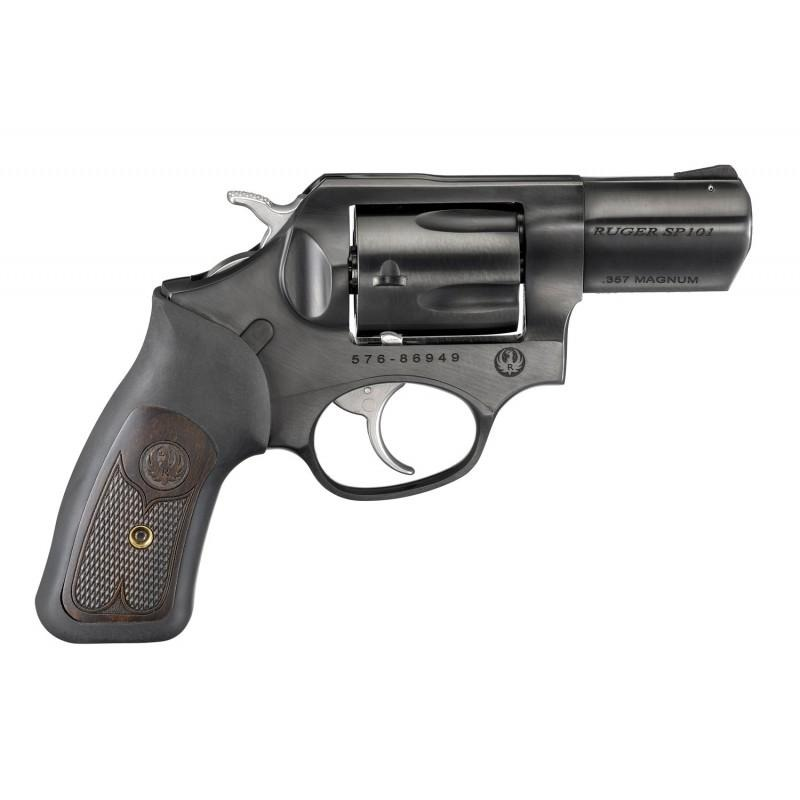gun: (31, 149, 763, 651)
